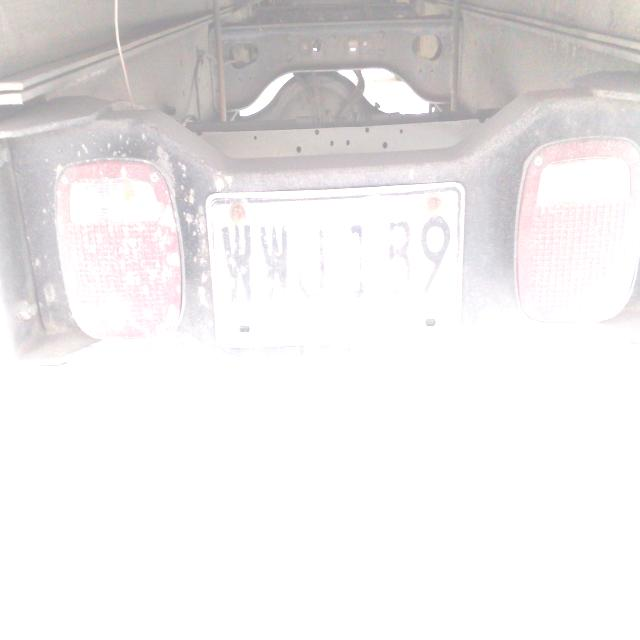placa: (202, 179, 469, 352)
